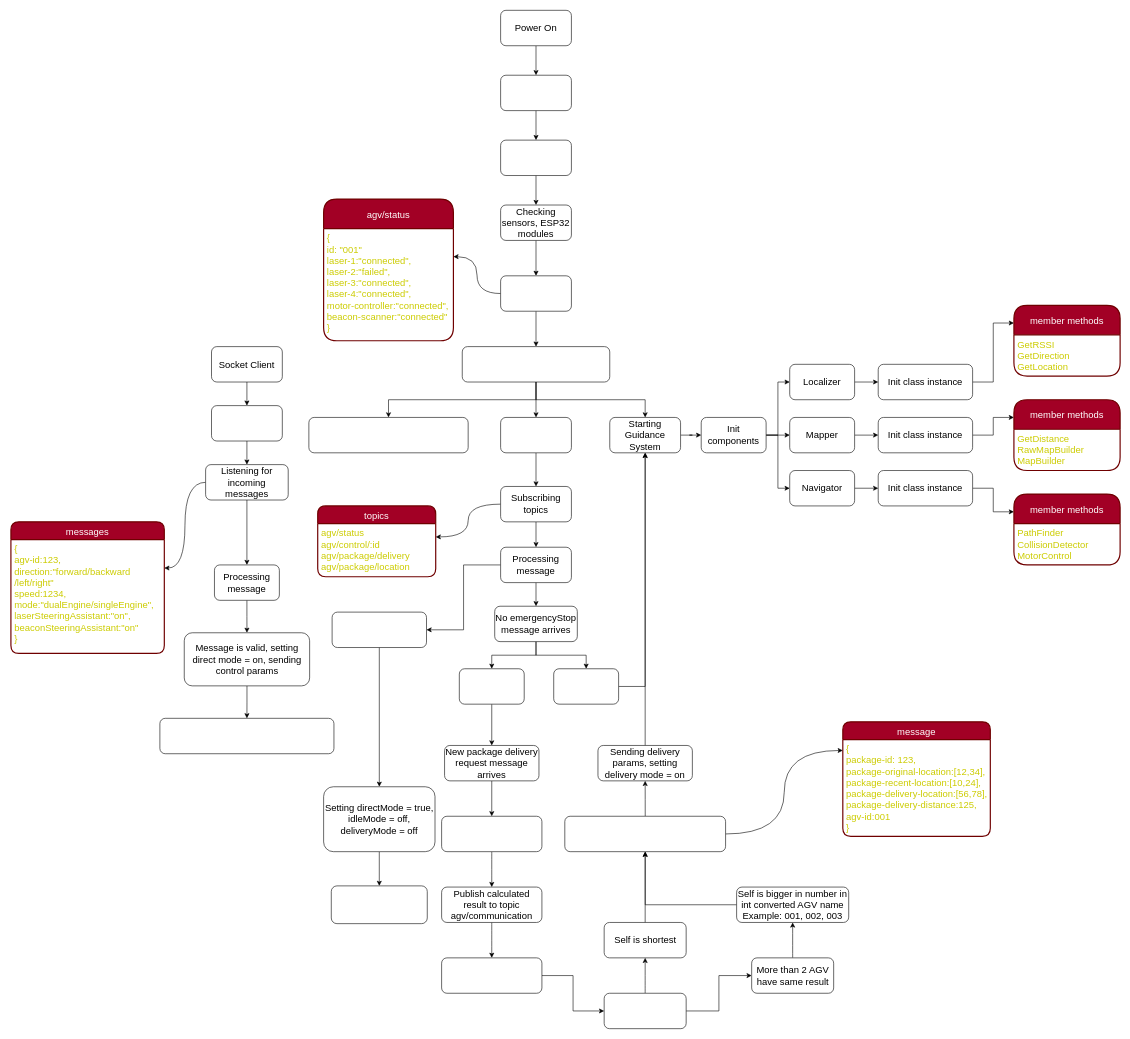
Some shapes in this 1130 by 1039 pixel diagram are drawn without their labels. The shapes that lost their labels are listed below. From the top down, each one's centre as x and y in pixels, then its label:
At point (535, 93): "Cronjob runs Console App".
At point (535, 158): "Console App Started".
At point (535, 293): "Sending check result to status topic".
At point (246, 423): "Connecting successfully".
At point (388, 435): "Setting directMode = off, deliveryMode = off, idleMode = true".
At point (535, 435): "Starting MQTT Client".
At point (379, 630): "New emergencyStop message arrives".
At point (491, 686): "In idle mode".
At point (586, 686): "In delivery mode".
At point (246, 736): "GuidanceSystem.PathPlanner.Control".
At point (491, 834): "Calculating distance for package delivery".
At point (645, 834): "Sending Receive to delivery message to agv/package/delivery topic".
At point (379, 904): "Starting Socket Client".
At point (491, 975): "Calculated result messages from other agv arrive".
At point (645, 1011): "Comparing results".
